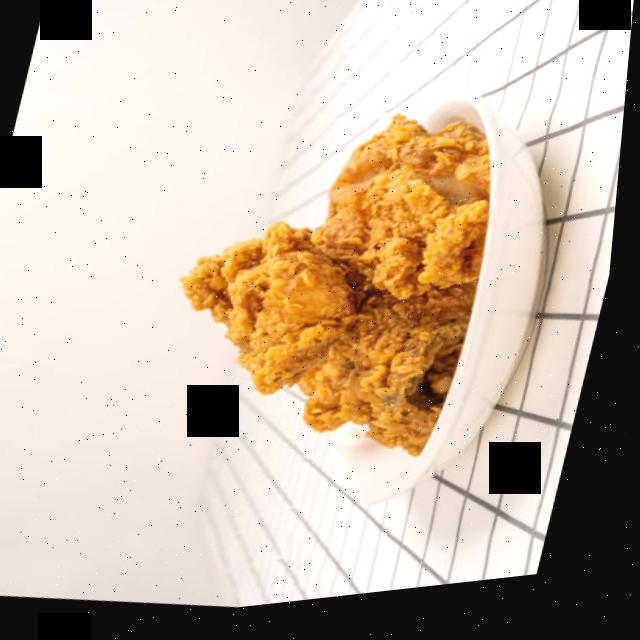Frango: (147, 85, 527, 490)
